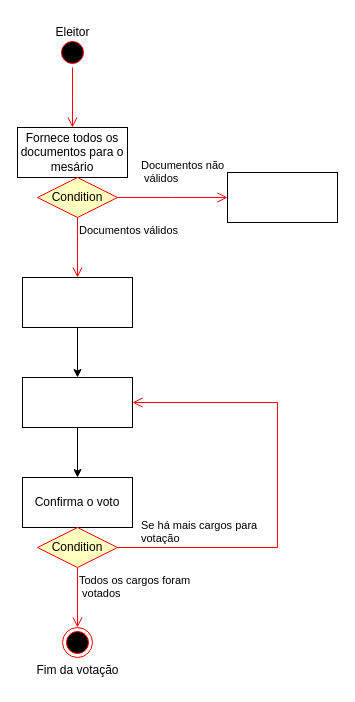
Image size: 355x702. Some labels were removed from this diagram. The shapes that lost their labels are listed below. From the top down, each one's box as (x1, y1, x2, y2) in pixels, then its label:
(226, 172, 338, 222): Impedido de realizar o voto
(22, 276, 132, 328): Vai até a urna
(22, 376, 132, 428): Realiza o voto
